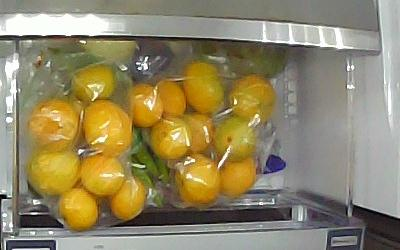tangerine_vinyl: (83, 100, 133, 154), (28, 99, 80, 146), (29, 147, 80, 194), (182, 61, 224, 118), (176, 151, 220, 205), (230, 71, 278, 120), (213, 117, 257, 164), (213, 153, 258, 197), (81, 154, 125, 198), (59, 190, 101, 233), (125, 83, 164, 129), (71, 63, 114, 102), (150, 118, 189, 161), (111, 176, 147, 219), (181, 112, 214, 154), (157, 79, 186, 120)
